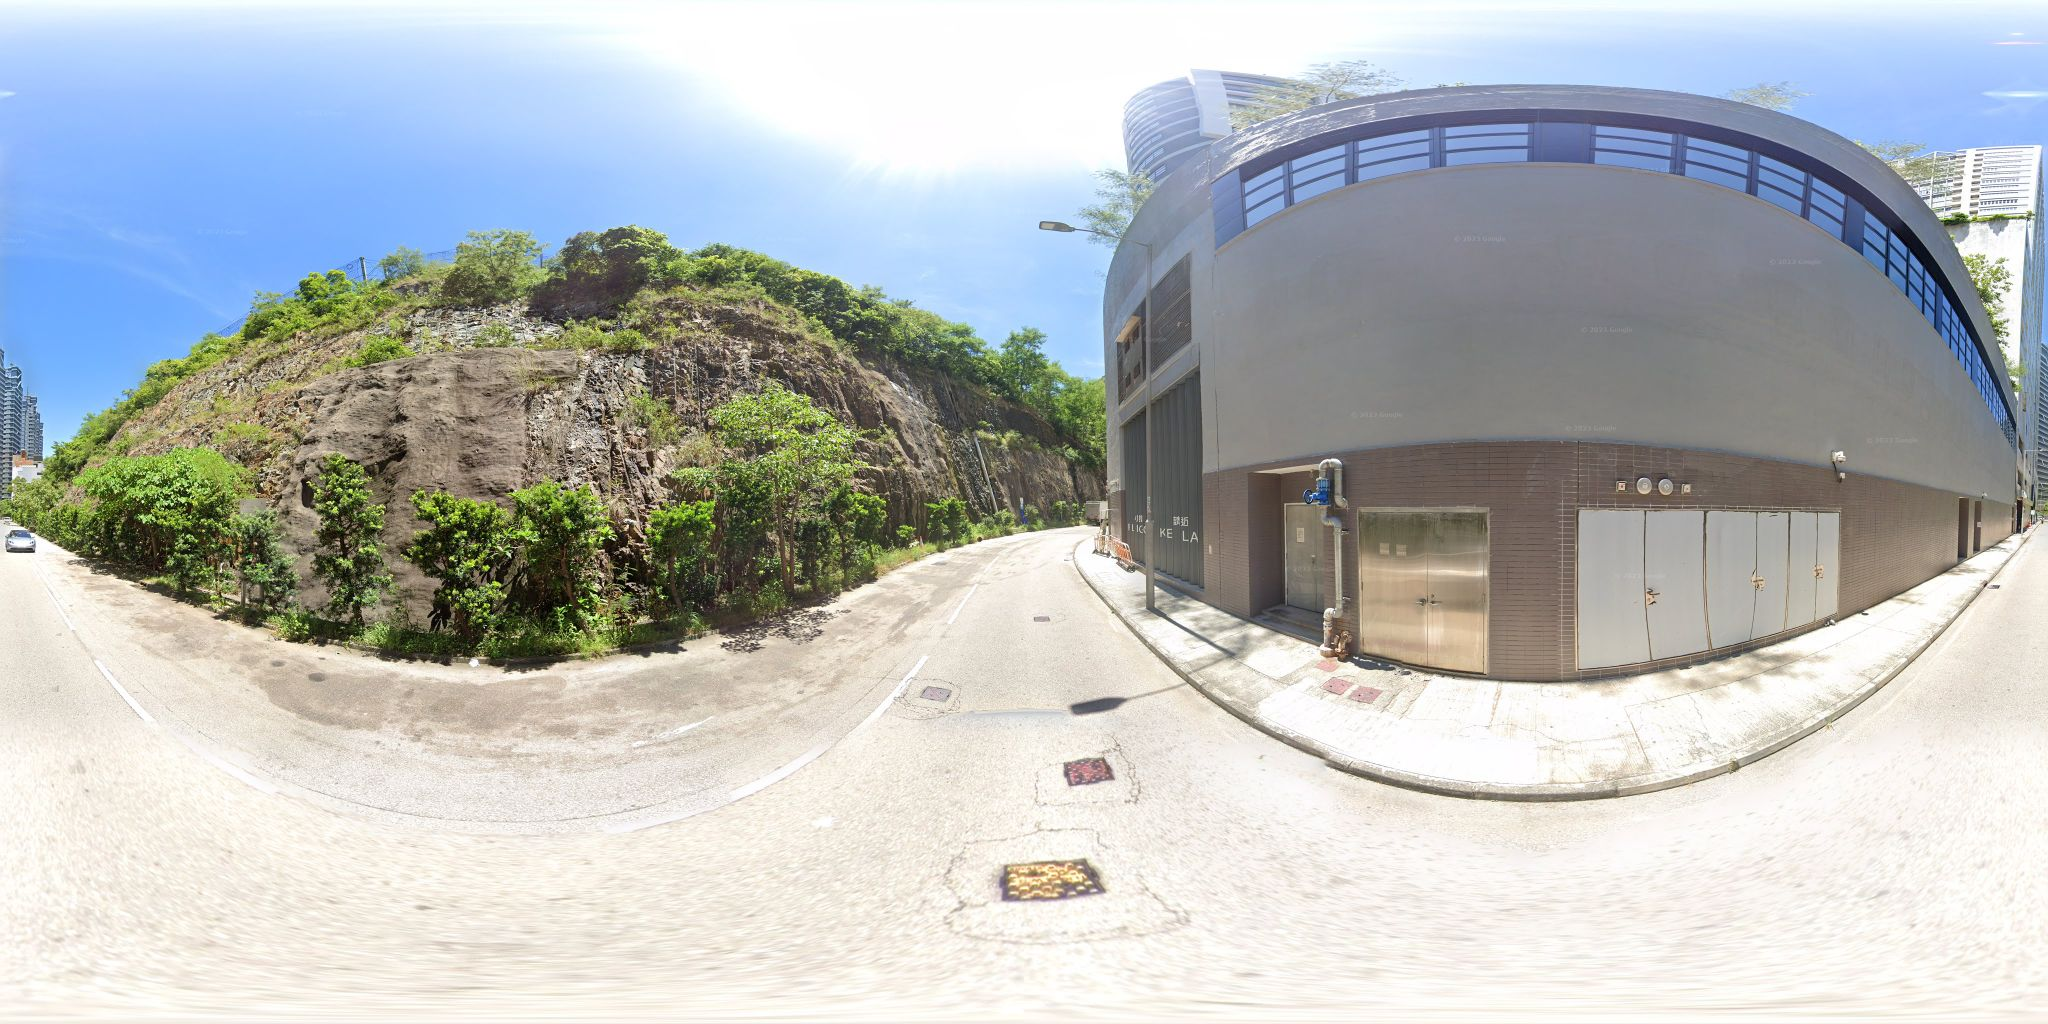SL: (1031, 210, 1156, 253)
